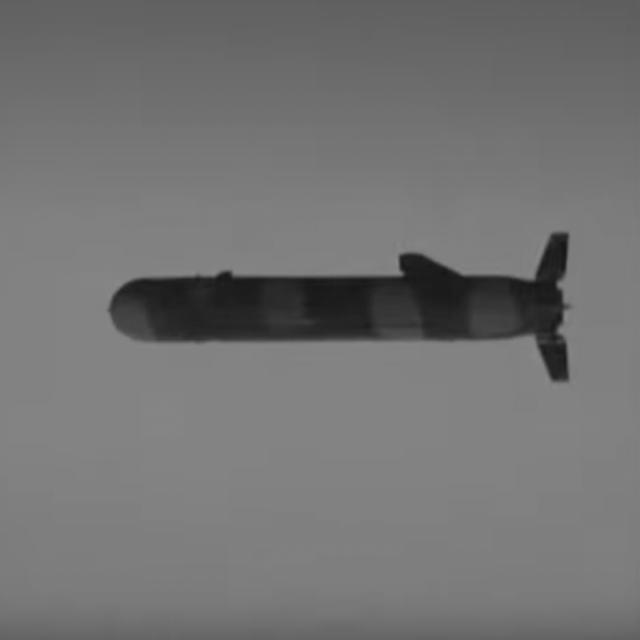Missile: (98, 218, 604, 398)
